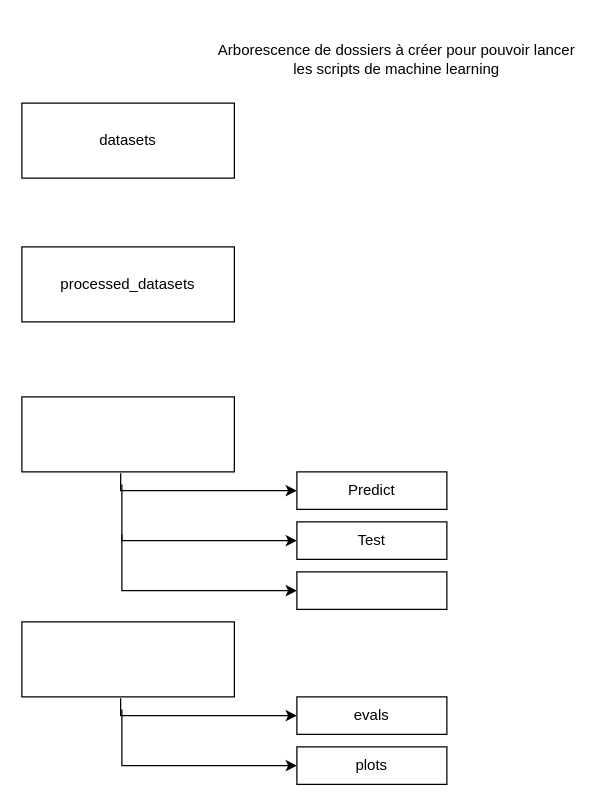
Image size: 606x806. Some labels were removed from this diagram. The shapes that lost their labels are listed below. From the top down, each one's centre as x and y in pixels, then its label:
At [127,434]: "temp_datasets".
At [371,590]: "Train".
At [127,659]: "finalPredictedDatasets".
